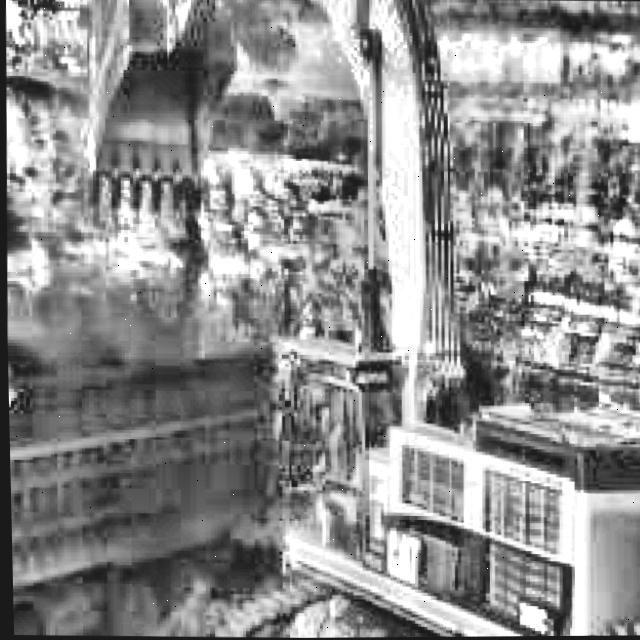dump_truck: (5, 279, 248, 638)
excavator: (68, 0, 640, 640)
